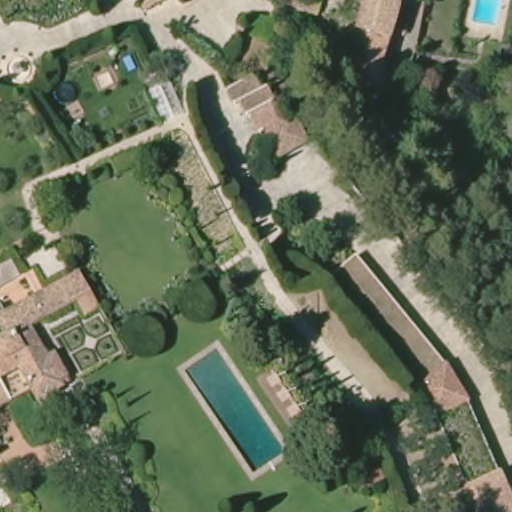pool: (183, 342, 293, 474), (466, 1, 506, 29)
